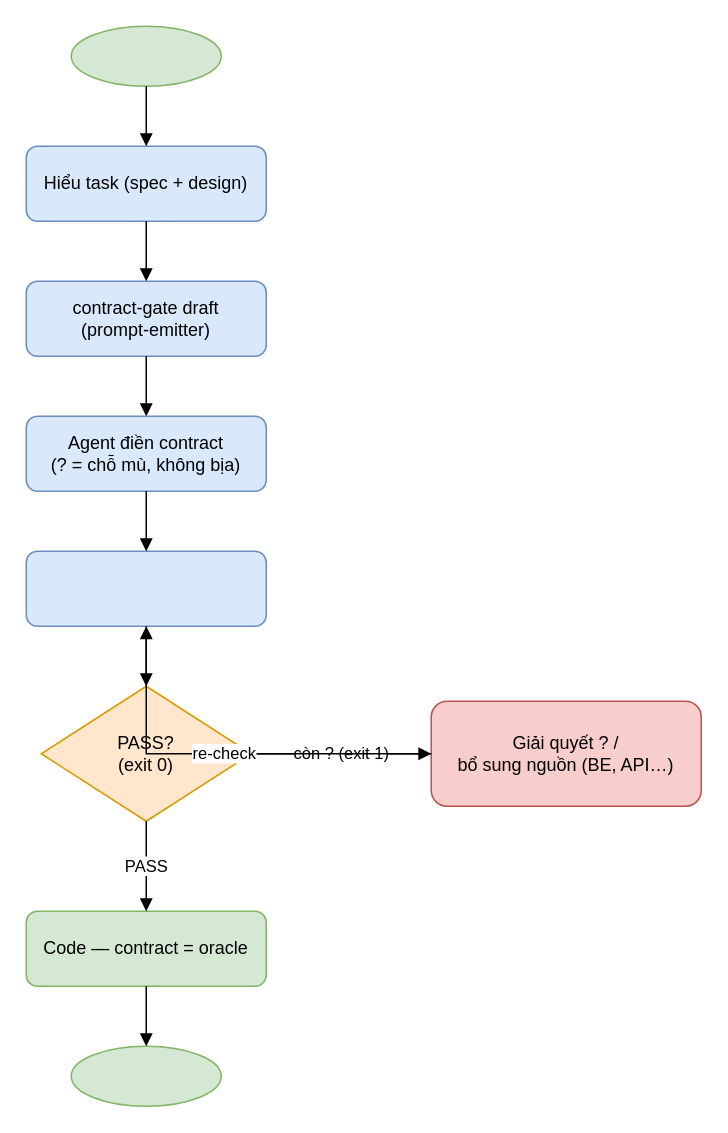
The diagram is 728 pixels wide and 1133 high, and some of its shapes have lost their labels. The shapes that lost their labels are listed below. From the top down, each one's box as (x1, y1, x2, y2) in pixels, then its label:
(70, 25, 221, 86): Start
(25, 550, 266, 626): contract-gate check
(70, 1045, 221, 1106): End
